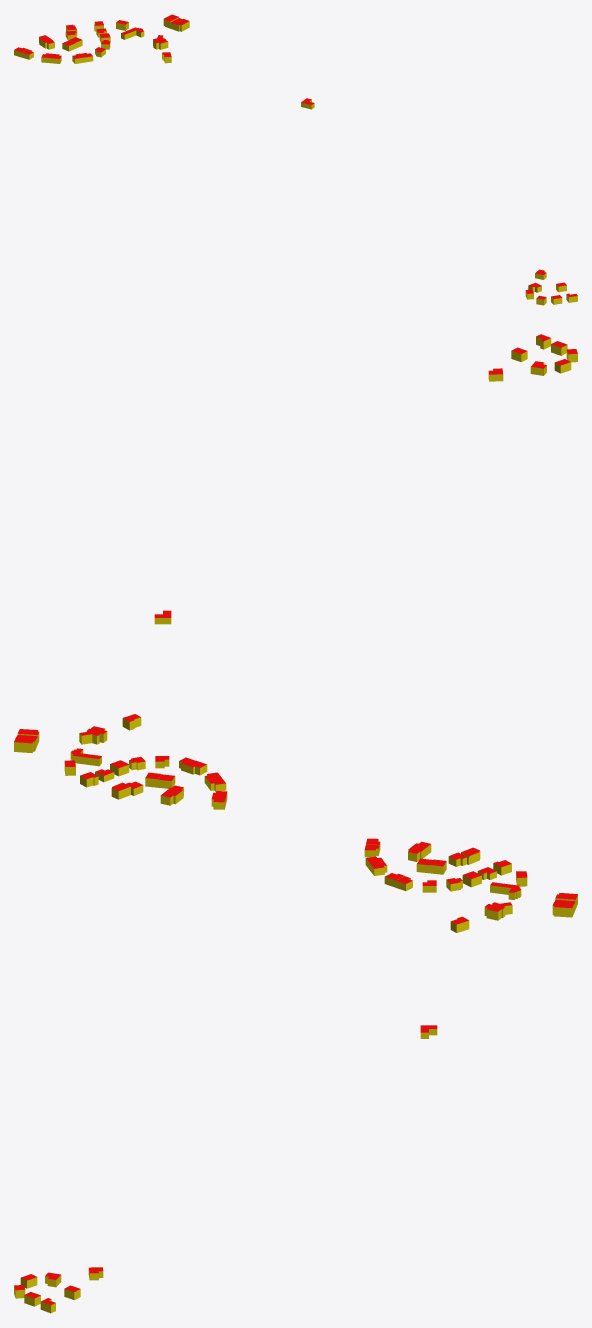
3 renders of one model, top to bottom at view 1: azimuth 30°, elevation 25°; view 2: azimuth 150°, elevation 25°; view 3: azimuth 330°, elevation 25°, orthographic. The views are drawn at different scales.
Visible parts, largest first — view 1: mesh; view 2: mesh; view 3: mesh.
Boxes of the visible parts, x1,y1,x2,y2 form: mesh: (14, 14, 577, 305); mesh: (14, 334, 577, 809); mesh: (14, 838, 577, 1313).
Bounding box in the file's own units: 446 × 16.84 × 1795.
